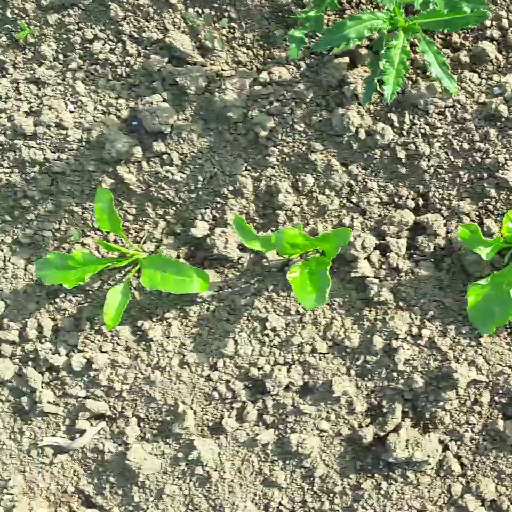sugarbeet: (26, 187, 212, 328), (227, 210, 352, 311), (452, 208, 512, 342)
weed: (283, 1, 494, 114), (10, 21, 36, 42)
